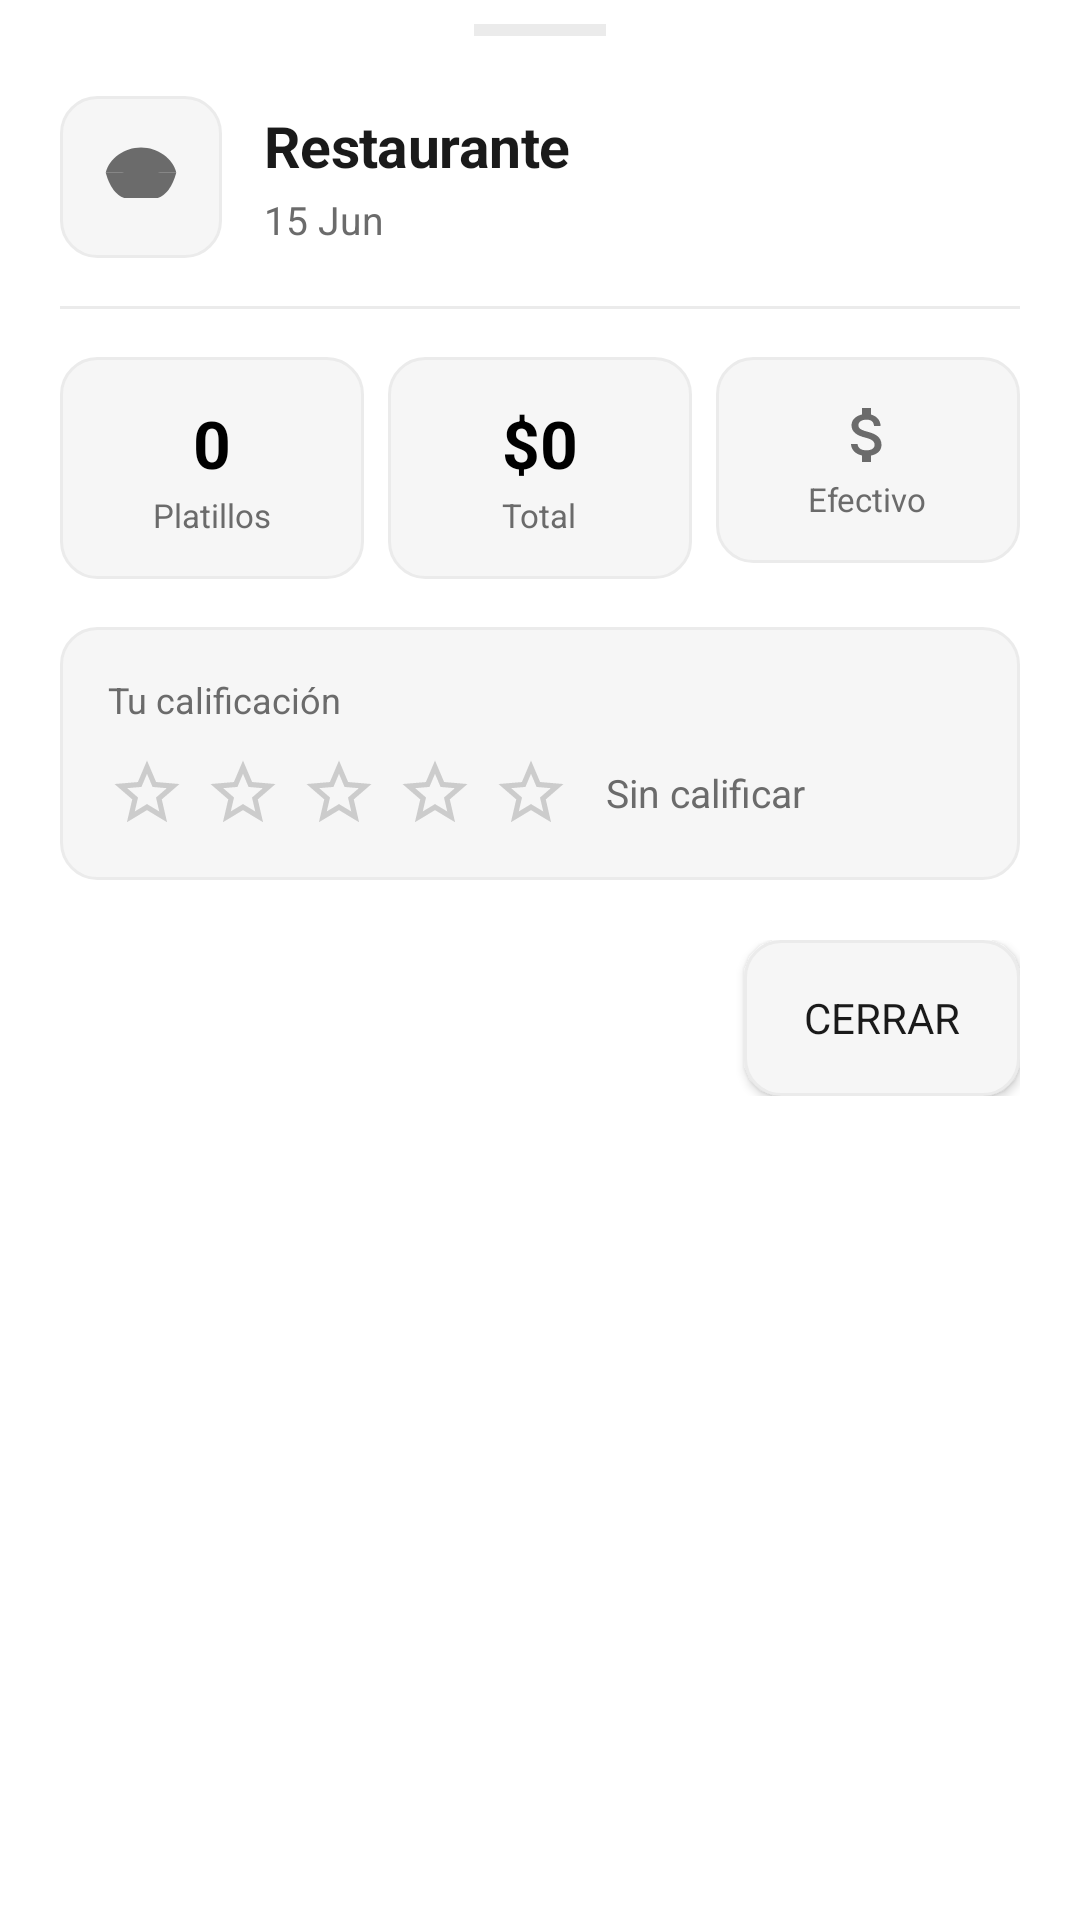

Locate icon controls on the screen. Image size 1080×1920, boxes as [left=x1, top=y1, right=x2, bottom=y2].
star: [left=115, top=762, right=179, bottom=822], [left=211, top=762, right=275, bottom=822], [left=307, top=762, right=371, bottom=822], [left=403, top=762, right=467, bottom=822], [left=499, top=762, right=563, bottom=822]
